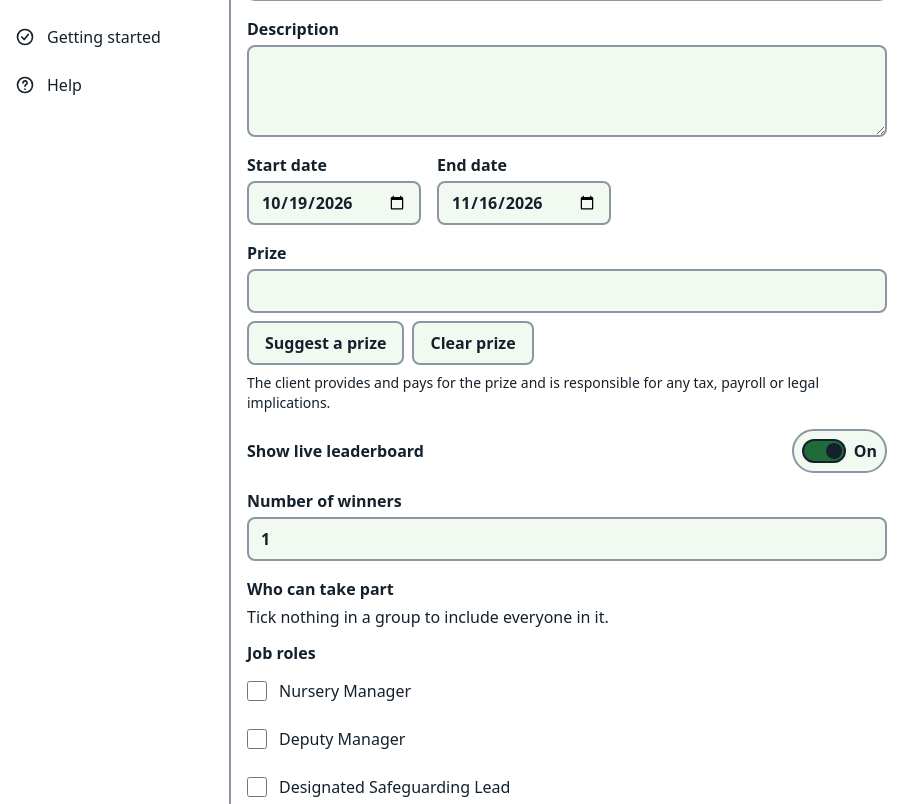
C12 prize button (BP-3) › clears the field with the clear button and puts focus back in the field
(page scrolled)
Click the button "Suggest a prize". click: (326, 343)
box: [247, 321, 404, 365]
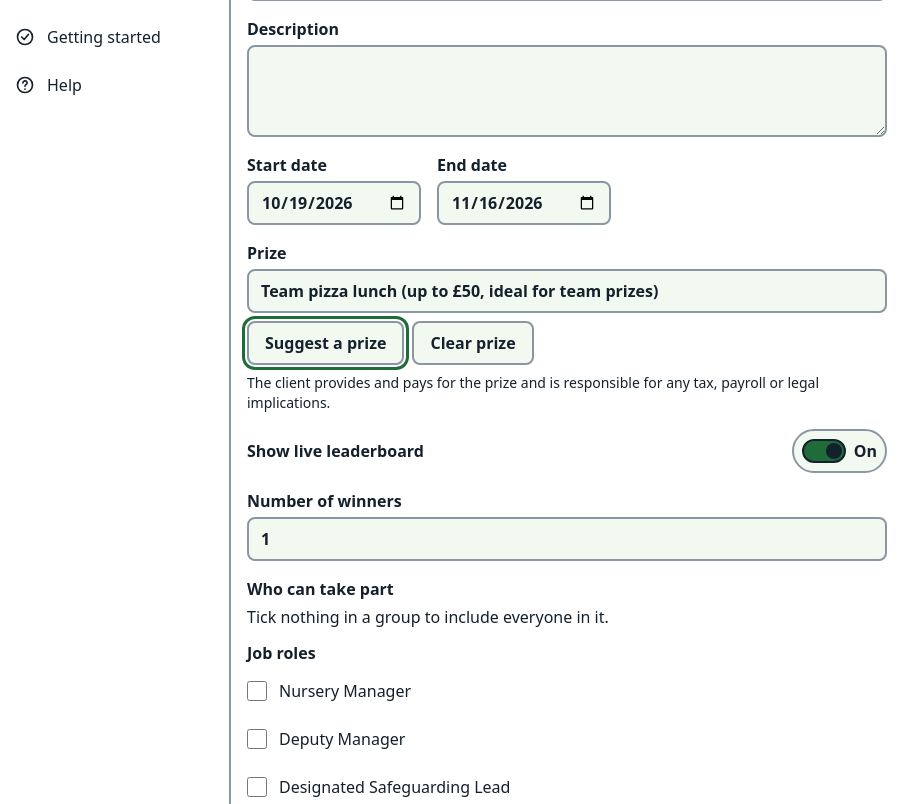
Expected: the field labelled "Prize" is not empty, [247, 269, 887, 313]
Click the button "Clear prize". click: (473, 343)
box: [412, 321, 534, 365]
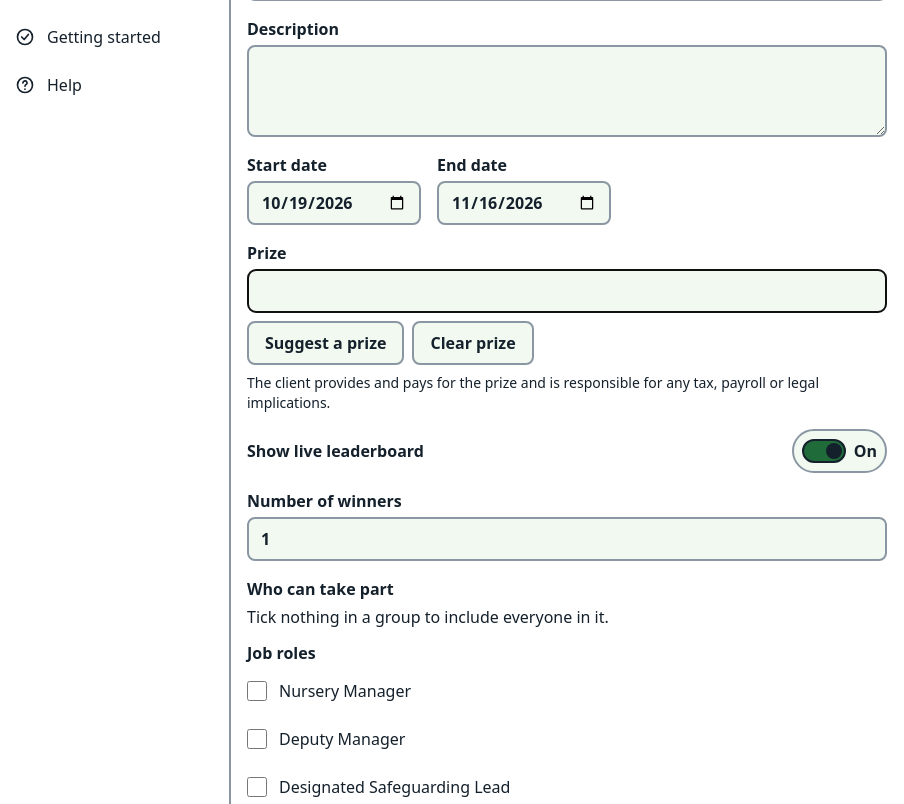
Expected: the field labelled "Prize" is empty, [247, 269, 887, 313]
